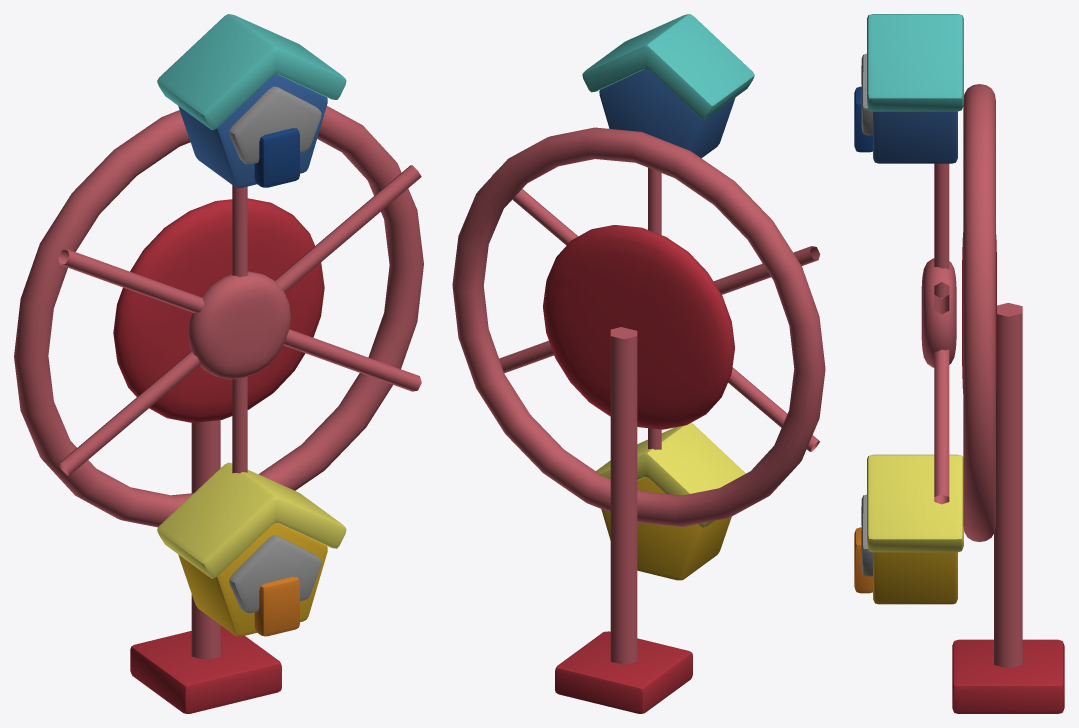
The picture shows the model from 3 angles, left to right: view 1: azimuth 30°, elevation 25°; view 2: azimuth 150°, elevation 25°; view 3: azimuth 270°, elevation 25°; orthographic projection. The views are drawn at different scales.
Visible parts, largest first — view 1: mtl_lun_01, mtl_00, mtl_wu_01, mtl_wu_02; view 2: mtl_00, mtl_lun_01, mtl_wu_01, mtl_wu_02; view 3: mtl_lun_01, mtl_00, mtl_wu_01, mtl_wu_02.
Part boxes in pixels (left/top/right/bottom): mtl_lun_01: left=14, top=106, right=423, bottom=527; mtl_00: left=113, top=198, right=324, bottom=713; mtl_wu_01: left=157, top=14, right=346, bottom=187; mtl_wu_02: left=157, top=462, right=346, bottom=636; mtl_00: left=543, top=225, right=734, bottom=713; mtl_lun_01: left=452, top=127, right=825, bottom=526; mtl_wu_01: left=582, top=14, right=754, bottom=158; mtl_wu_02: left=596, top=423, right=745, bottom=580; mtl_lun_01: left=921, top=84, right=995, bottom=541; mtl_00: left=952, top=232, right=1064, bottom=713; mtl_wu_01: left=854, top=14, right=963, bottom=163; mtl_wu_02: left=854, top=454, right=963, bottom=604.
Bounding box in the file's own units: 183 × 298 × 83.79.
